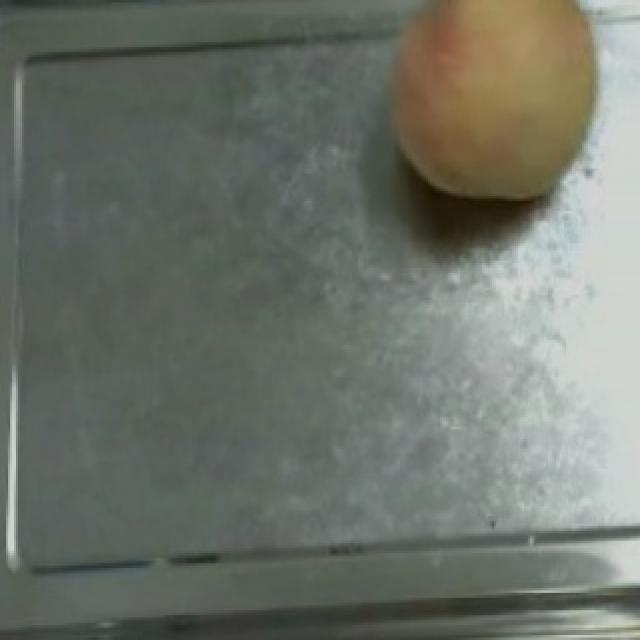Fruit: (362, 0, 618, 216)
